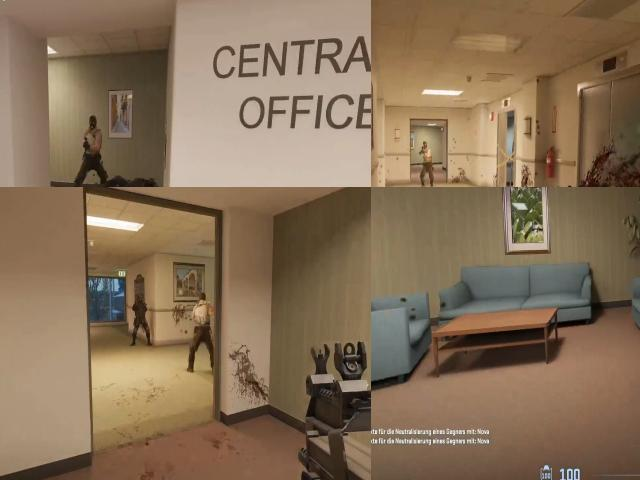CT: (132, 301, 149, 322)
CT-Head: (136, 294, 144, 307)
Dead: (108, 173, 156, 187)
T: (80, 111, 106, 175), (189, 300, 215, 331), (418, 135, 434, 182)
T-Head: (84, 110, 100, 133), (195, 291, 209, 306), (420, 138, 430, 152)
